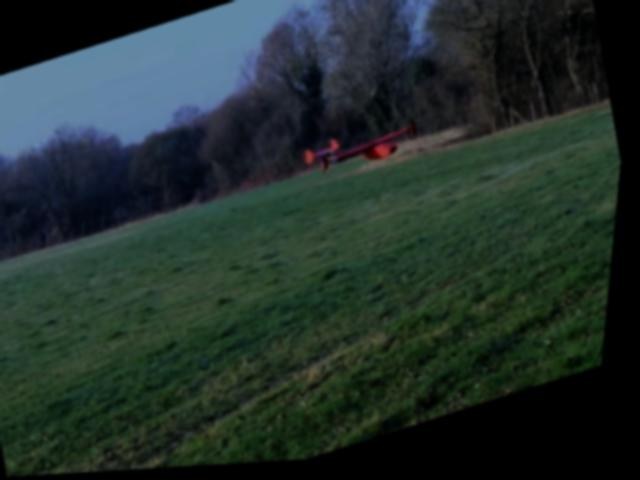uav: (299, 111, 423, 189)
